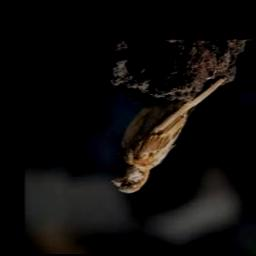Sparrow: (111, 76, 227, 195)
